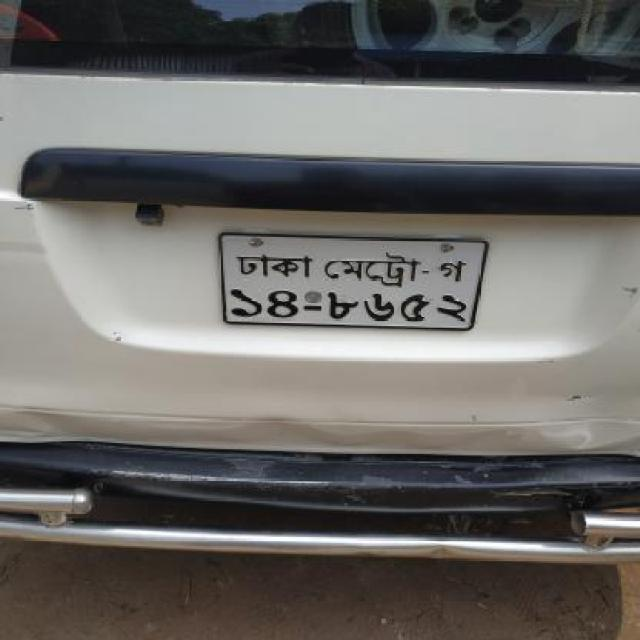numberplate: (217, 229, 488, 331)
